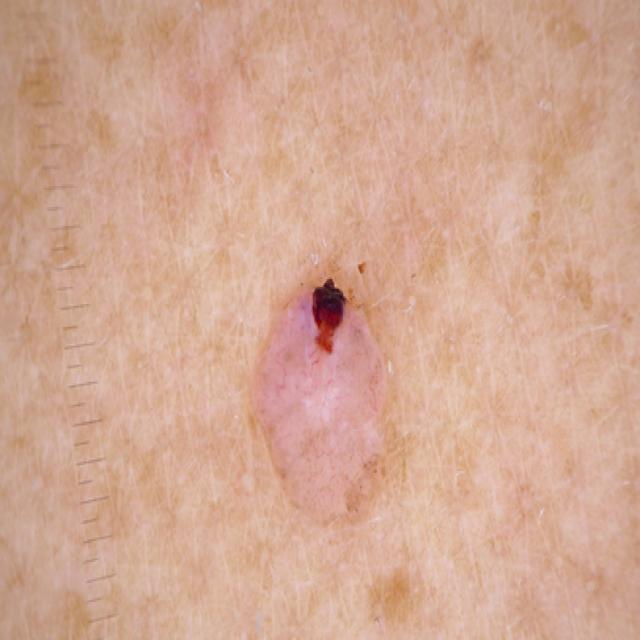Carcinoma: (196, 241, 492, 586)
